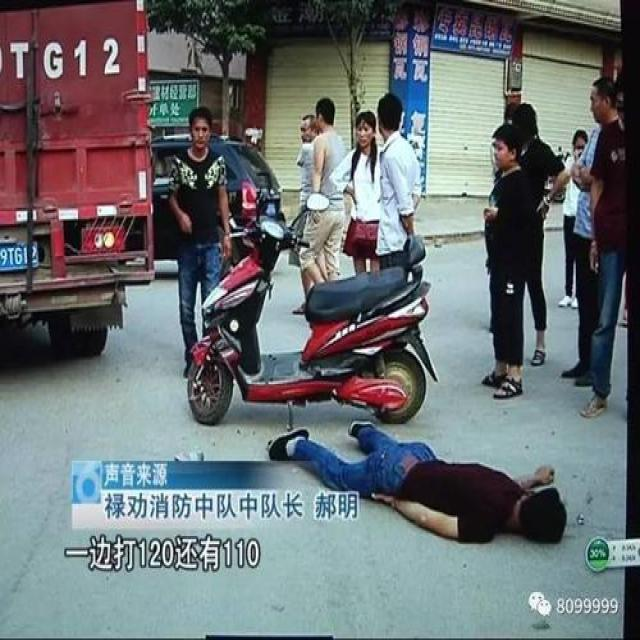10-: (160, 69, 639, 550)
down: (261, 414, 570, 549)
